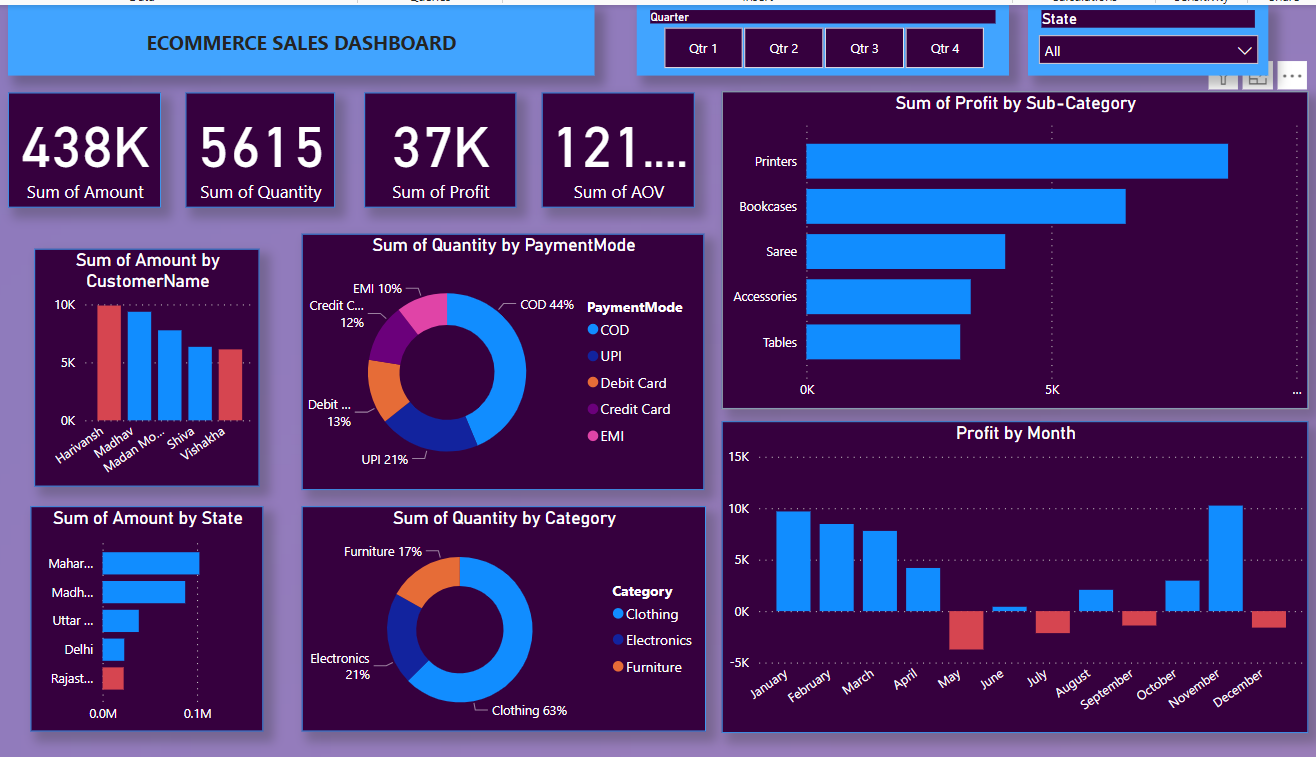

The dashboard page shown, as its layout file describes it:
{"tool":"powerbi","page":{"name":"Page 1","canvas":[1280,720],"ordinal":0},"visuals":[{"type":"textbox","box":[9.6,0,558.4,67.5],"z":0},{"type":"columnChart","title":"Profit by Month","fields":{"Category":["Orders.Order Date.Variation.Date Hierarchy.Month"],"Y":["Details.Profit"]},"box":[688.6,395.7,558.6,297.1],"z":1000},{"type":"barChart","fields":{"Category":["Details.Sub-Category"],"Y":["Details.Profit"]},"box":[689.1,82.7,558.5,302],"z":2000},{"type":"donutChart","fields":{"Category":["Details.PaymentMode","Details.Category"],"Y":["Details.Quantity"]},"box":[289.4,218.3,383.5,243.6],"z":3000},{"type":"donutChart","fields":{"Category":["Details.Category"],"Y":["Details.Quantity"]},"box":[289.4,477.6,384.7,214.7],"z":4000},{"type":"card","fields":{"Values":["Details.Amount"]},"box":[9.6,83.2,145.9,109.7],"z":5000},{"type":"card","fields":{"Values":["Details.Profit"]},"box":[348.5,83.2,144.7,109.7],"z":6000},{"type":"card","fields":{"Values":["Details.Quantity"]},"box":[178.5,83.2,142.3,109.7],"z":7000},{"type":"card","fields":{"Values":["Details.AOV"]},"box":[517.4,83.2,145.9,109.7],"z":8000},{"type":"barChart","fields":{"Category":["Orders.State"],"Y":["Details.Amount"]},"box":[31.4,477.6,221.9,214.7],"z":9000},{"type":"columnChart","fields":{"Category":["Orders.CustomerName"],"Y":["Details.Amount"]},"box":[35,231.6,214.7,226.7],"z":10000},{"type":"slicer","fields":{"Values":["Orders.Order Date.Variation.Date Hierarchy.Quarter"]},"box":[607.6,0,354.8,67.1],"z":11000},{"type":"slicer","fields":{"Values":["Orders.State"]},"box":[980.4,0,228.9,67.1],"z":12000}]}

Visuals, with their boxes in screenshot pixels (x1, y1, x2, y2), scaled from the page's 1280x720 canvas onto the 1316x757 screenshot:
textbox: box=[10, 0, 584, 71]
"Profit by Month" columnChart: box=[708, 416, 1282, 728]
barChart - Details.Sub-Category x Details.Profit: box=[708, 87, 1283, 404]
donutChart - Details.PaymentMode x Details.Category: box=[298, 230, 692, 486]
donutChart - Details.Category x Details.Quantity: box=[298, 502, 693, 728]
card - Details.Amount: box=[10, 87, 160, 203]
card - Details.Profit: box=[358, 87, 507, 203]
card - Details.Quantity: box=[184, 87, 330, 203]
card - Details.AOV: box=[532, 87, 682, 203]
barChart - Orders.State x Details.Amount: box=[32, 502, 260, 728]
columnChart - Orders.CustomerName x Details.Amount: box=[36, 244, 257, 482]
slicer - Orders.Order Date.Variation.Date Hierarchy.Quarter: box=[625, 0, 989, 71]
slicer - Orders.State: box=[1008, 0, 1243, 71]
